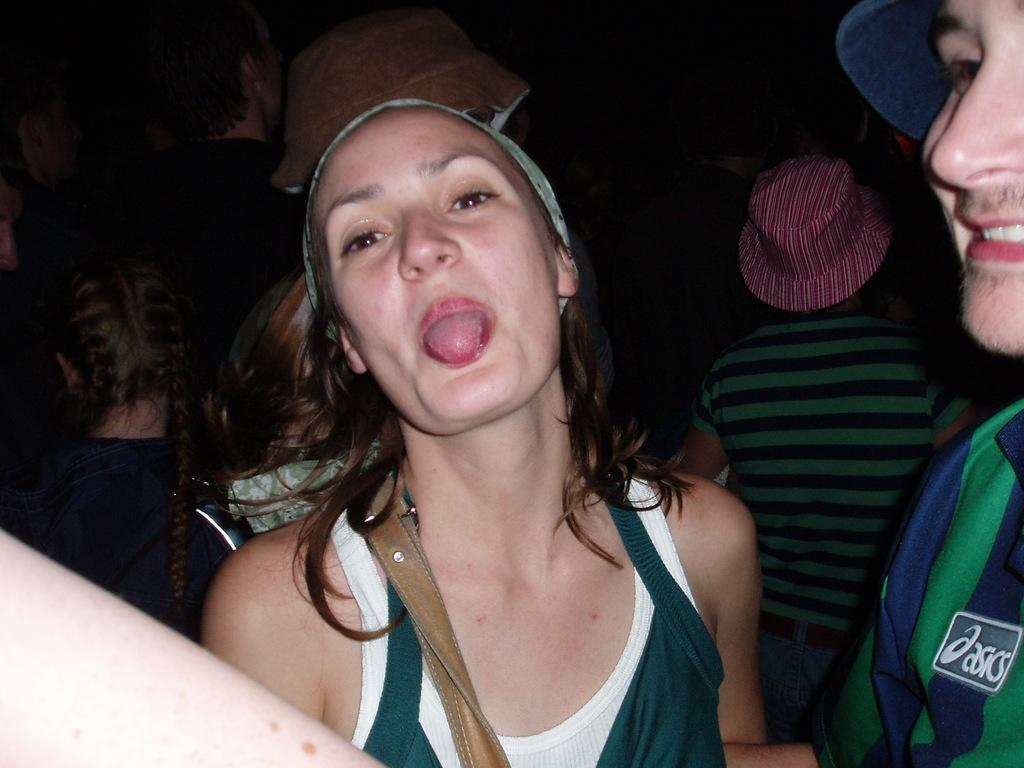Hat: (743, 154, 896, 310), (837, 0, 953, 147)
